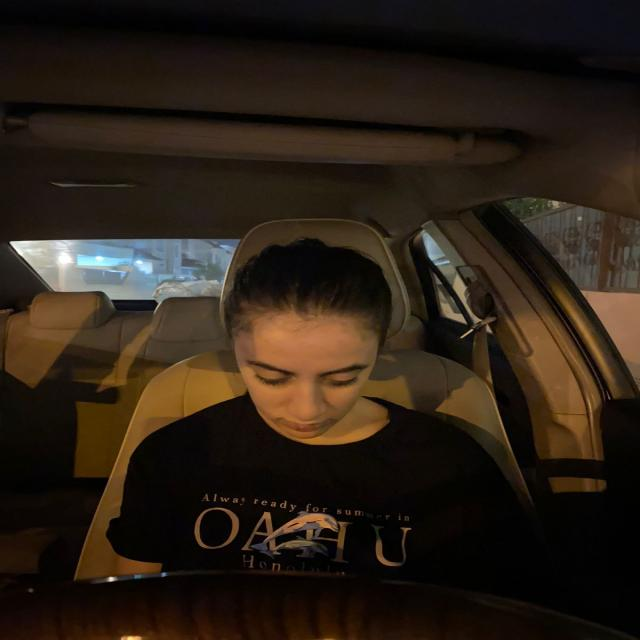drowsy: (223, 233, 395, 443)
